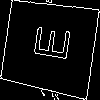E: (24, 22, 71, 63)
